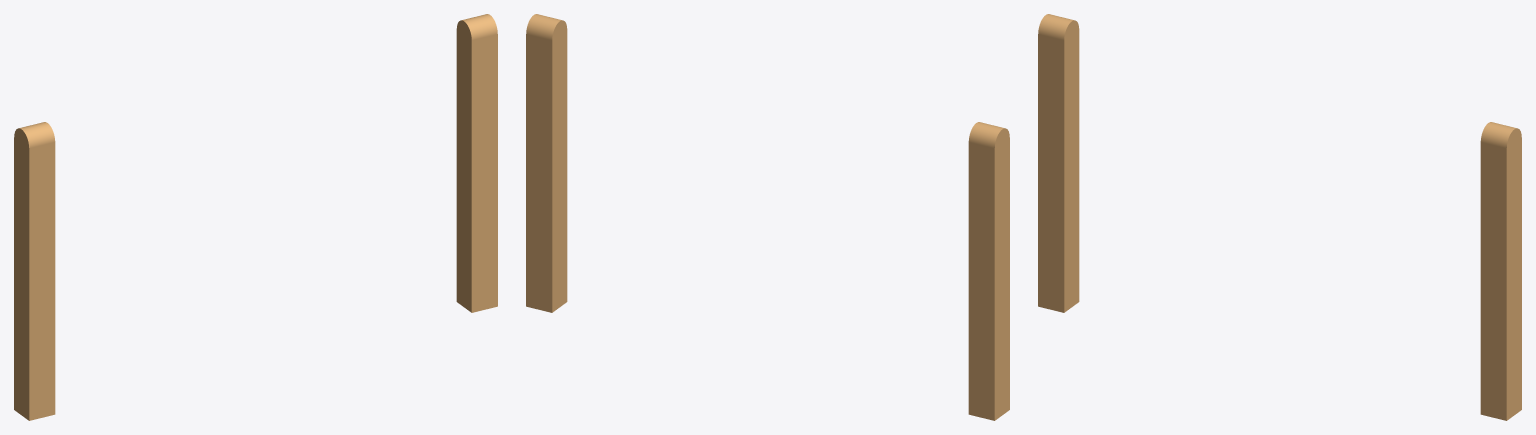
3 views of the same model, side by side, from view 1: azimuth 30°, elevation 25°; view 2: azimuth 150°, elevation 25°; view 3: azimuth 330°, elevation 25° (orthographic).
Visible parts, largest first — view 1: Arm Segment <2>, Arm Segment <4>; view 2: Arm Segment <2>, Arm Segment <4>; view 3: Arm Segment <4>, Arm Segment <2>.
Part boxes in pixels (x1,y1,x2,y2): Arm Segment <2>: (14,122,55,420); Arm Segment <4>: (456,14,497,312); Arm Segment <2>: (968,122,1009,420); Arm Segment <4>: (526,14,567,312); Arm Segment <4>: (1480,122,1521,420); Arm Segment <2>: (1038,14,1079,312).
Bounding box in the file's own units: 0.4572 × 0.2667 × 0.0254.
